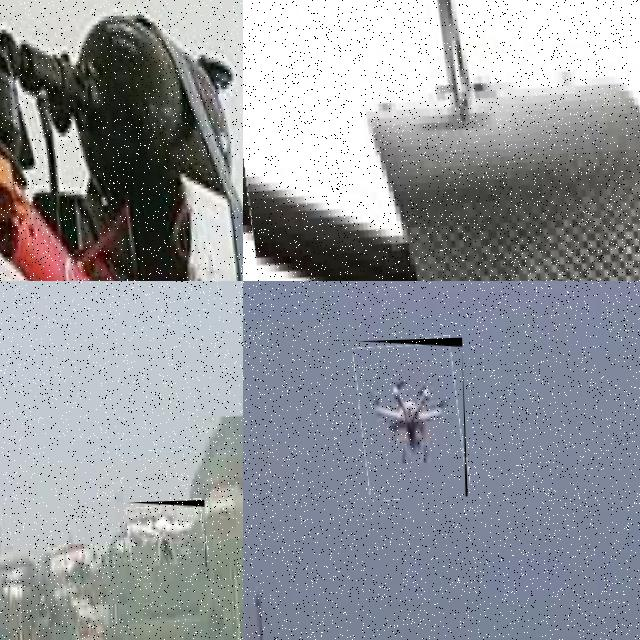0: (356, 337, 467, 500), (126, 499, 206, 569)
drone: (243, 0, 640, 281), (0, 0, 243, 281)
